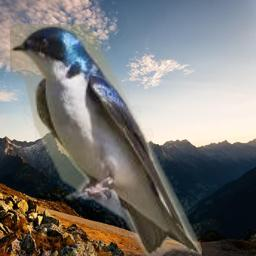Swallow: (10, 24, 202, 256)
